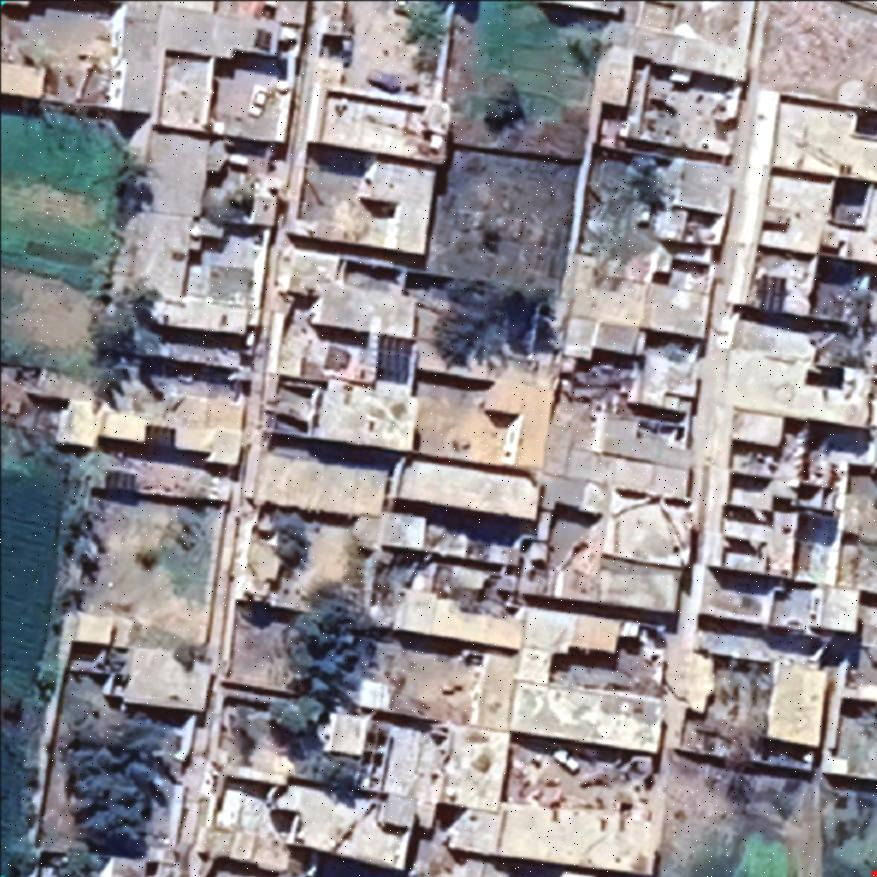Solarpanel: (370, 329, 418, 389), (140, 420, 178, 453), (100, 466, 140, 496), (250, 26, 274, 54)
